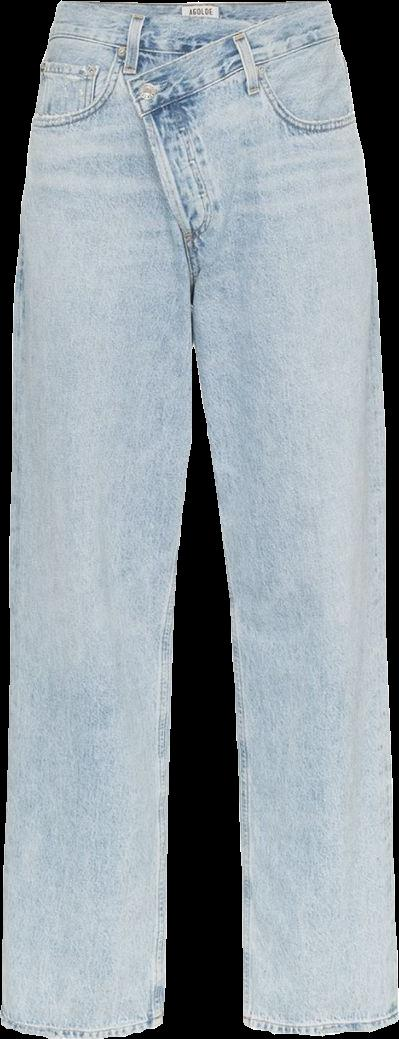Hemline: (0, 1016, 161, 1038), (242, 1016, 398, 1037)
Pantleg: (124, 2, 398, 1035), (0, 2, 201, 1038)
Waistline: (58, 0, 331, 25)
